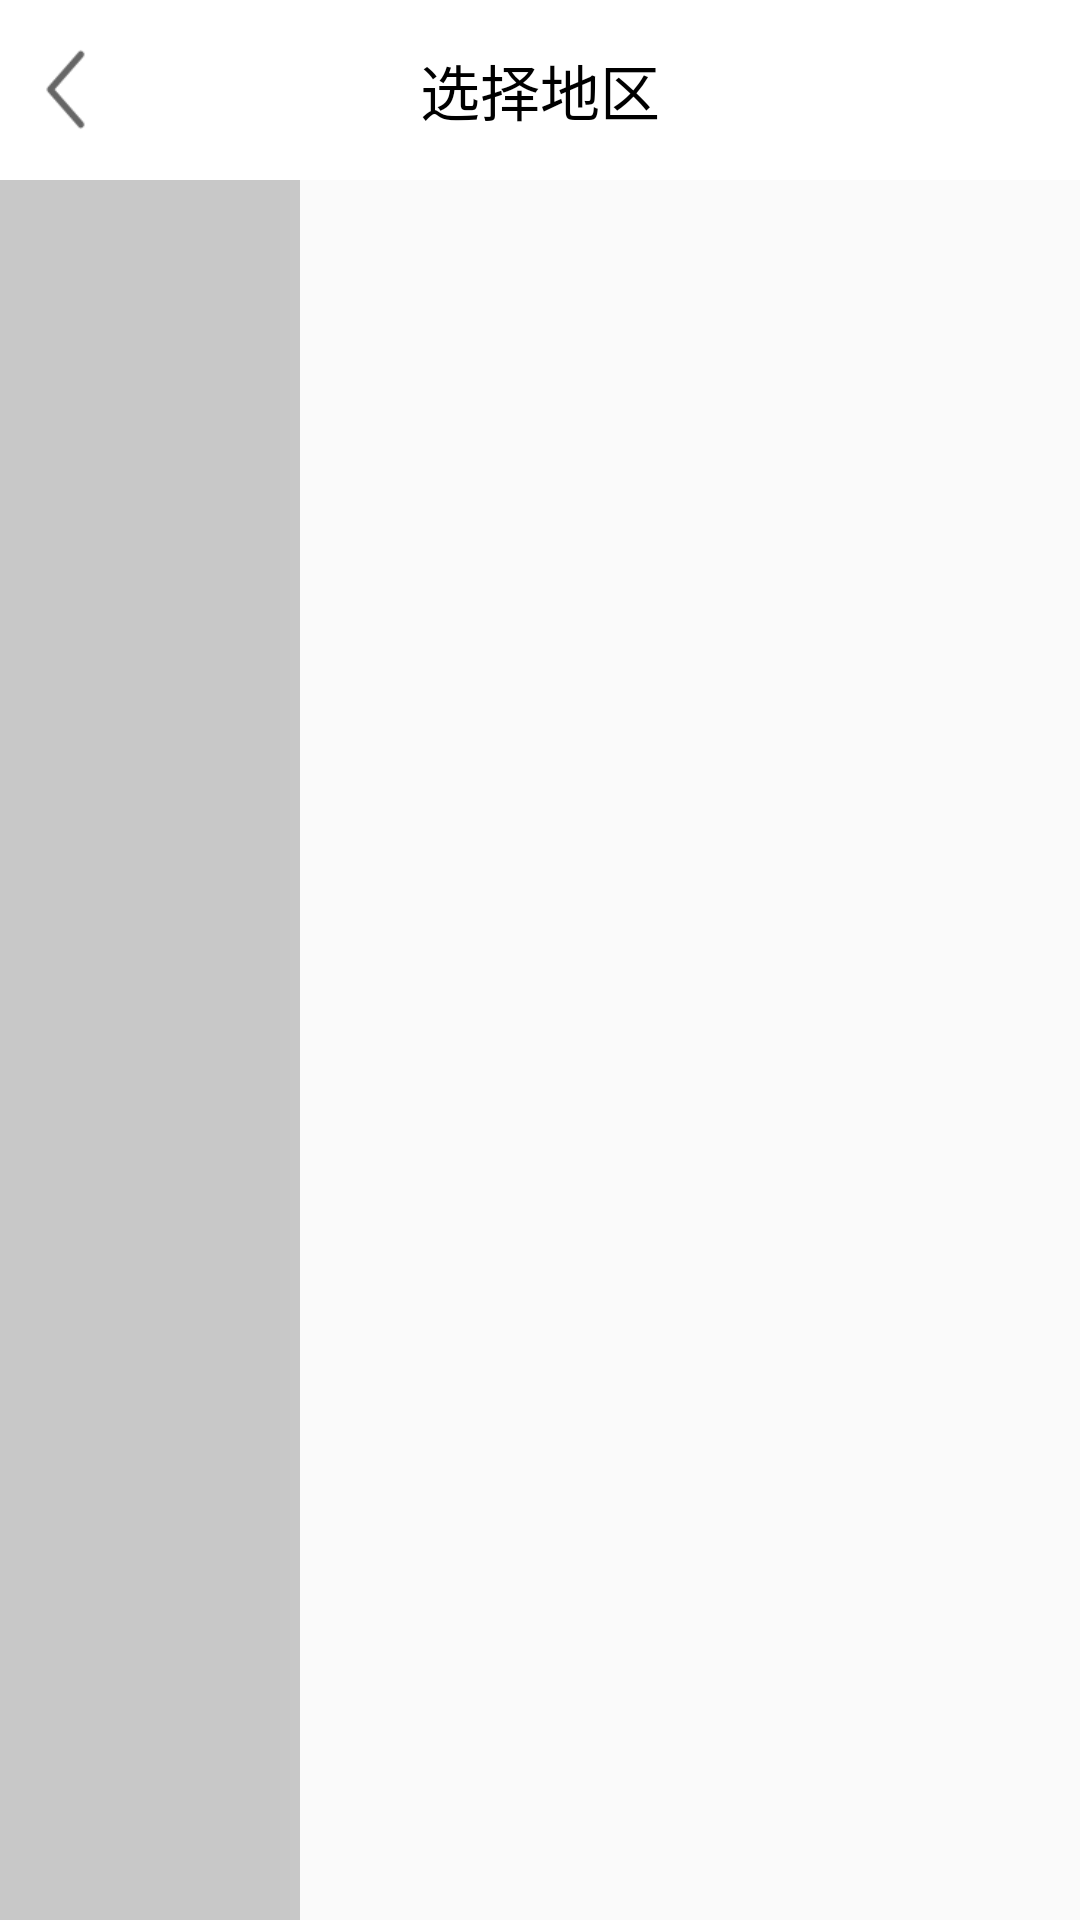

Screen size 1080 × 1920. Icon name, then its center in pixels as point (x, y):
title back: point (65, 89)
